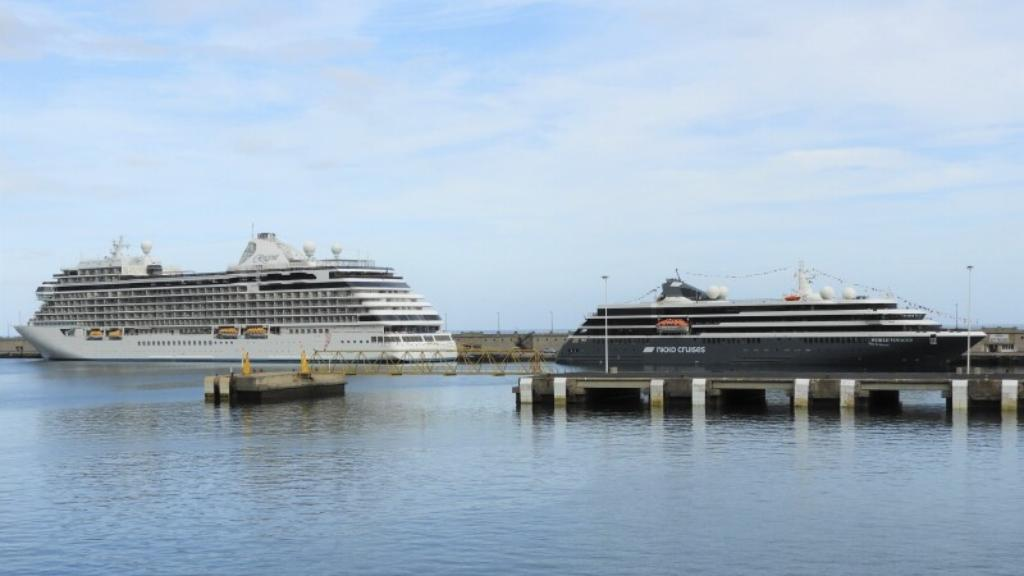PassengerShip: (13, 220, 457, 364), (554, 258, 976, 368)
